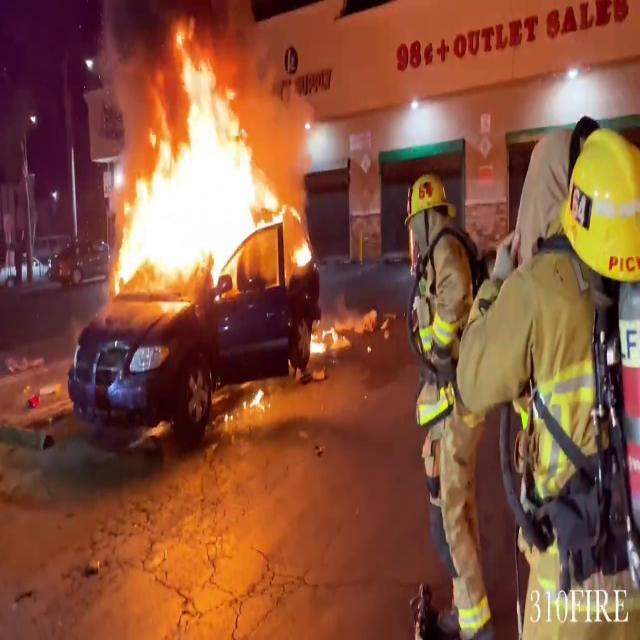Fire: (107, 32, 293, 294)
